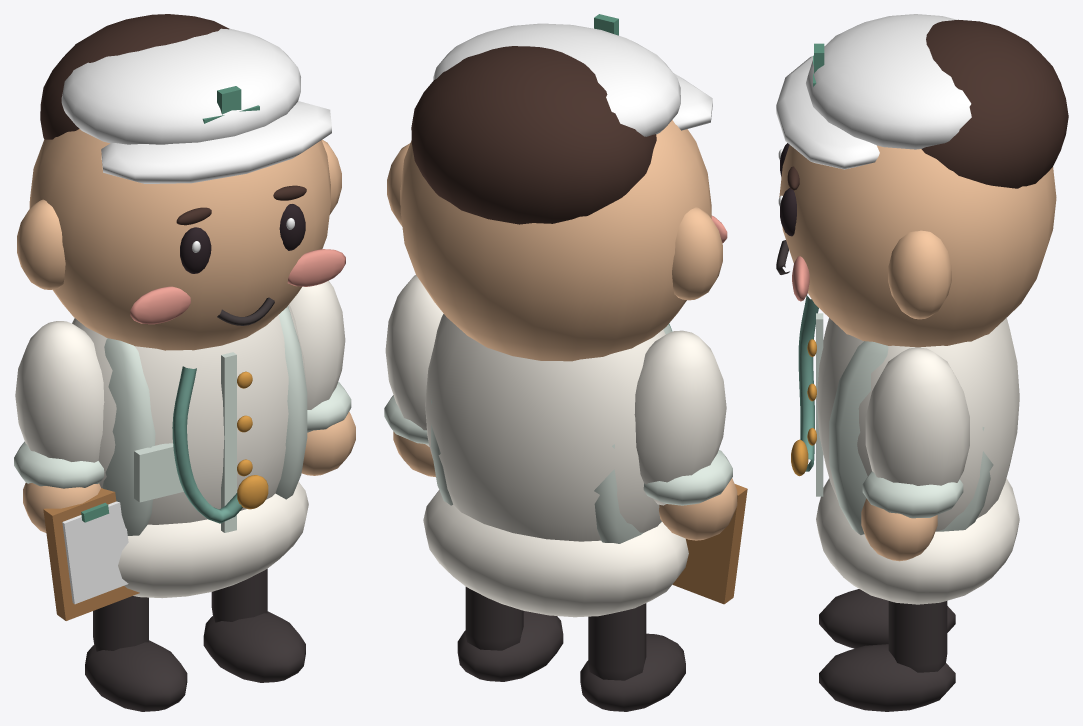
The model's file is doctor.glb.
The picture shows the model from 3 angles, left to right: view 1: azimuth 30°, elevation 25°; view 2: azimuth 150°, elevation 25°; view 3: azimuth 270°, elevation 25°; orthographic projection. The views are drawn at different scales.
Parts seen in each view (by area): view 1: large-head, nurse-cap, rounded-coat, coat-hem, sleeve-0, coat-side-panel (×2), cap-brim, hair-back, shoe-0, shoe-1, sleeve-1, clipboard-paper (+16 smaller); view 2: large-head, rounded-coat, hair-back, coat-hem, sleeve-0, nurse-cap, sleeve-1, ear (×2), shoe-0, shoe-1, clipboard-board, leg-0 (+7 smaller); view 3: large-head, hair-back, nurse-cap, rounded-coat, coat-hem, sleeve-1, coat-side-panel, shoe-1, cap-brim, ear, leg-1, shoe-0 (+7 smaller).
Boxes of the visible parts, <box> form: large-head: <box>29,129,330,350</box>; nurse-cap: <box>61,28,300,144</box>; rounded-coat: <box>72,304,307,524</box>; coat-hem: <box>118,482,308,598</box>; sleeve-0: <box>15,321,104,462</box>; coat-side-panel (×2): <box>102,306,307,535</box>; cap-brim: <box>101,101,331,183</box>; hair-back: <box>40,14,229,139</box>; shoe-0: <box>85,640,187,711</box>; shoe-1: <box>203,611,305,682</box>; sleeve-1: <box>289,280,345,409</box>; clipboard-paper: <box>62,501,128,604</box>; large-head: <box>400,120,711,361</box>; rounded-coat: <box>425,314,665,541</box>; hair-back: <box>411,46,656,224</box>; coat-hem: <box>423,490,688,617</box>; sleeve-0: <box>634,330,726,505</box>; nurse-cap: <box>433,23,680,136</box>; sleeve-1: <box>385,275,443,446</box>; ear (×2): <box>387,143,722,300</box>; shoe-0: <box>580,633,685,711</box>; shoe-1: <box>457,611,563,681</box>; clipboard-board: <box>672,484,747,604</box>; leg-0: <box>588,603,646,680</box>; large-head: <box>779,145,1056,347</box>; hair-back: <box>921,19,1068,188</box>; nurse-cap: <box>806,14,971,149</box>; rounded-coat: <box>816,318,1019,531</box>; coat-hem: <box>816,478,1019,604</box>; sleeve-1: <box>865,347,969,485</box>; coat-side-panel: <box>829,341,993,534</box>; shoe-1: <box>819,644,955,711</box>; cap-brim: <box>776,56,879,169</box>; ear: <box>888,230,951,319</box>; leg-1: <box>888,601,947,672</box>; shoe-0: <box>819,589,955,648</box>.
Bounding box in the file's own units: 0.9268 × 1.73 × 0.7174.
